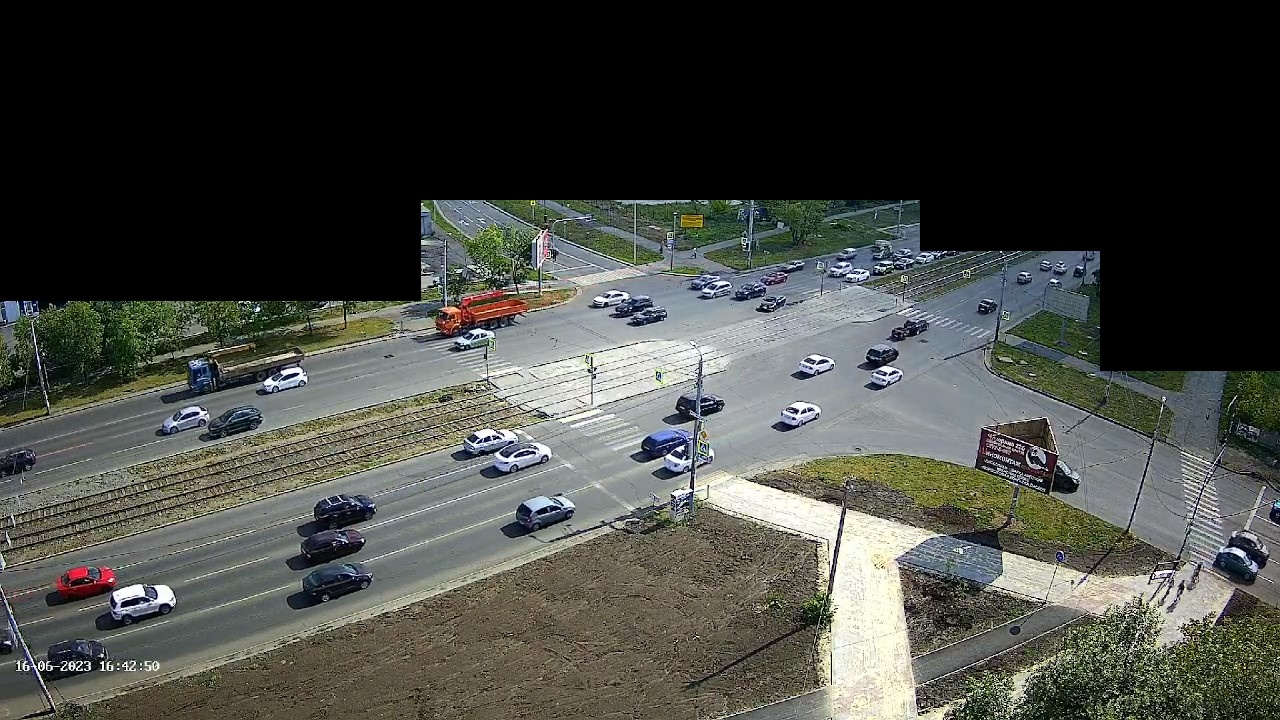car: (105, 581, 179, 625), (299, 562, 374, 605), (514, 491, 578, 535), (42, 636, 107, 678), (298, 526, 367, 564), (55, 566, 117, 603), (311, 492, 378, 526), (491, 441, 553, 476), (663, 440, 716, 479), (205, 406, 264, 440), (641, 428, 699, 461), (1037, 454, 1084, 494), (463, 427, 520, 459), (157, 404, 210, 436), (1215, 545, 1260, 582), (256, 366, 311, 396), (774, 400, 823, 433), (675, 392, 725, 422), (1230, 528, 1271, 563), (1, 447, 40, 480), (451, 328, 497, 353), (796, 353, 837, 380), (863, 341, 901, 369), (868, 365, 905, 390), (613, 294, 655, 315), (589, 289, 628, 310), (632, 307, 670, 327), (697, 279, 734, 299), (734, 282, 766, 301), (756, 294, 787, 313), (684, 276, 717, 293), (905, 317, 930, 337), (827, 260, 854, 278), (763, 268, 790, 286), (846, 266, 873, 283), (834, 246, 860, 263), (872, 260, 899, 276), (976, 296, 999, 314), (1269, 496, 1280, 528), (784, 258, 807, 273), (1016, 268, 1034, 285), (893, 247, 913, 261), (897, 257, 918, 270), (915, 253, 934, 265), (1053, 260, 1067, 276), (1046, 278, 1062, 292), (1038, 258, 1052, 273), (935, 250, 954, 261), (1072, 265, 1087, 278)
pedestrian: (1175, 580, 1186, 600)
trailer: (891, 327, 907, 341)
truck: (184, 340, 305, 395), (434, 289, 527, 339), (871, 240, 897, 260)
